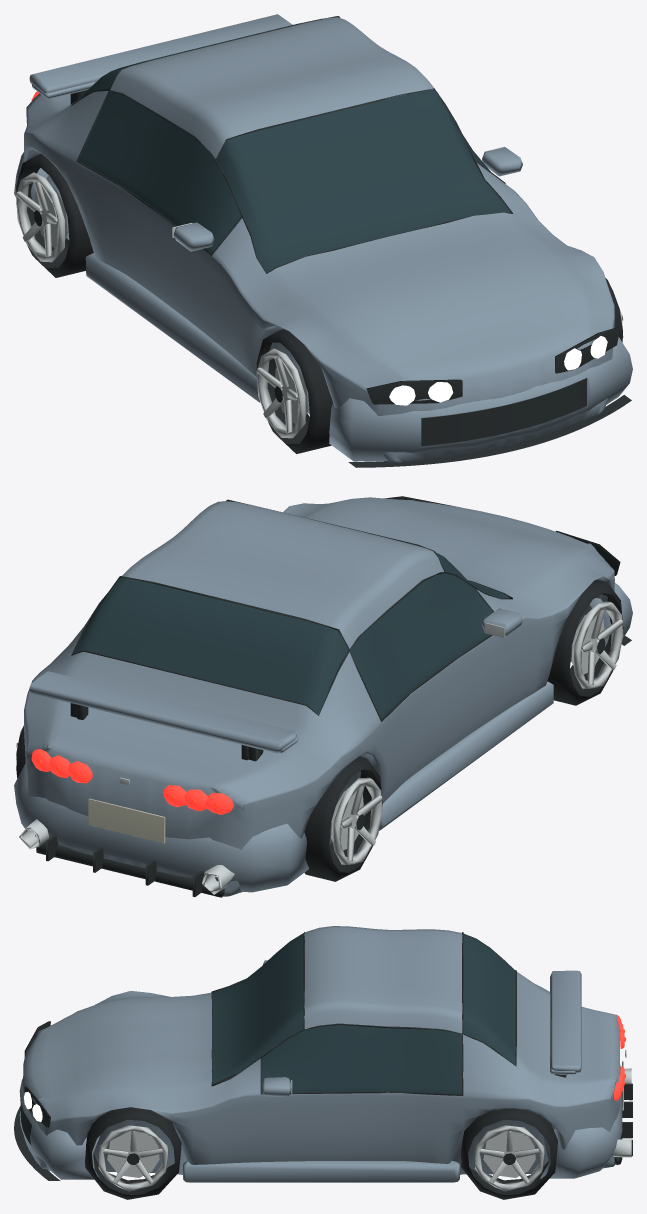
File: ossyra-dralva.glb
3 views of the same model, one above another, from view 1: azimuth 30°, elevation 25°; view 2: azimuth 150°, elevation 25°; view 3: azimuth 270°, elevation 25° (orthographic). The views are drawn at different scales.
Visible parts, largest first — view 1: cofano, cristallo_ant, scocca, tetto, cristallo_sx, porta_sx, paraurti_ant, minigonna_sx, griglia, spoiler, ruota_ant_sx_gomma, ruota_post_sx_gomma (+12 smaller); view 2: scocca, tetto, cristallo_post, portellone, cofano, porta_sx, cristallo_sx, paraurti_post, spoiler, minigonna_sx, ruota_post_sx_gomma, ruota_ant_sx_gomma (+14 smaller); view 3: scocca, tetto, cofano, porta_dx, cristallo_dx, cristallo_ant, portellone, minigonna_dx, cristallo_post, spoiler, ruota_ant_dx_gomma, ruota_post_dx_gomma (+13 smaller).
Boxes of the visible parts, x1,y1,x2,y2 form: cofano: (267,212,593,372); cristallo_ant: (216,89,510,272); scocca: (24,90,614,462); tetto: (110,17,433,158); cristallo_sx: (78,91,241,253); porta_sx: (76,162,226,350); paraurti_ant: (329,337,632,461); minigonna_sx: (85,253,260,402); griglia: (421,378,586,446); spoiler: (29,14,292,92); ruota_ant_sx_gomma: (256,329,332,453); ruota_post_sx_gomma: (16,154,93,277); scocca: (24,499,614,896); tetto: (122,501,444,648); cristallo_post: (72,577,348,714); portellone: (42,651,318,792); cofano: (304,497,593,599); porta_sx: (373,630,515,802); cristallo_sx: (350,573,492,719); paraurti_post: (14,761,308,892); spoiler: (29,671,296,753); minigonna_sx: (379,681,553,830); ruota_post_sx_gomma: (304,756,382,881); ruota_ant_sx_gomma: (547,579,623,705); scocca: (23,984,619,1174); tetto: (304,926,462,1033); cofano: (45,992,211,1102); porta_dx: (245,1092,462,1174); cristallo_dx: (261,1024,462,1094); cristallo_ant: (212,933,304,1084); portellone: (516,972,619,1088); minigonna_dx: (183,1161,459,1182); cristallo_post: (463,934,515,1065); spoiler: (551,970,581,1073); ruota_ant_dx_gomma: (85,1107,181,1199); ruota_post_dx_gomma: (461,1108,557,1199).
Size of the model in its own units: 2.09 by 1.36 by 4.28.
